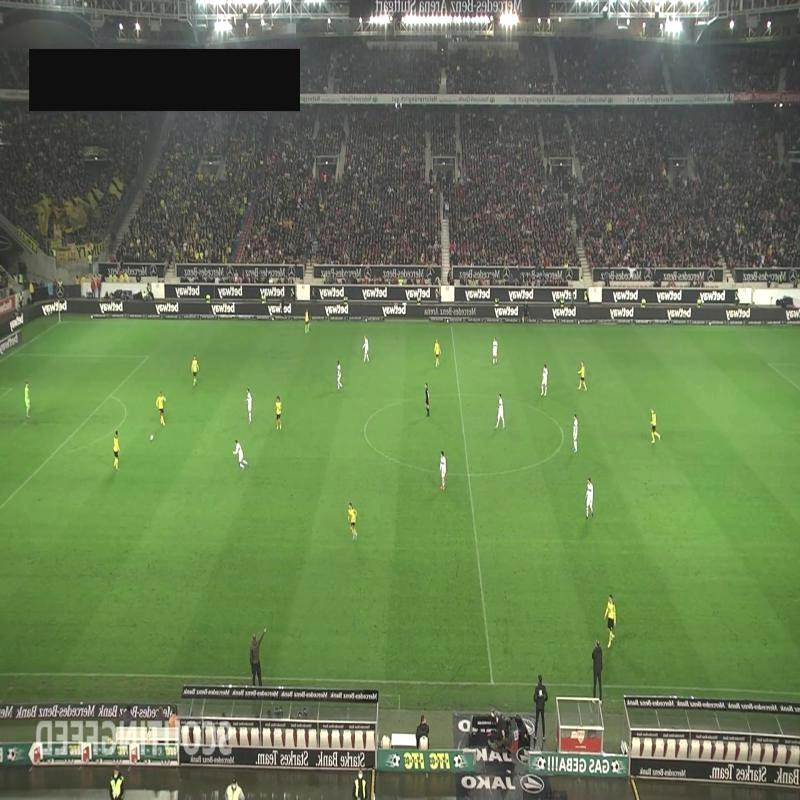1: (52, 315, 66, 329)
10: (103, 386, 118, 400)
11: (46, 445, 60, 459)
13: (445, 316, 459, 330)
14: (452, 386, 466, 400)
15: (461, 466, 475, 480)
16: (485, 673, 499, 693)
2: (4, 347, 18, 360)
7: (4, 381, 18, 395)
9: (763, 356, 777, 370), (141, 350, 154, 364)
c: (357, 422, 371, 438), (556, 429, 570, 443)
